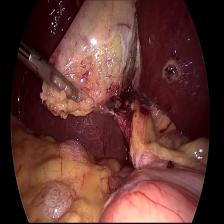Grasper: (20, 36, 82, 112)
